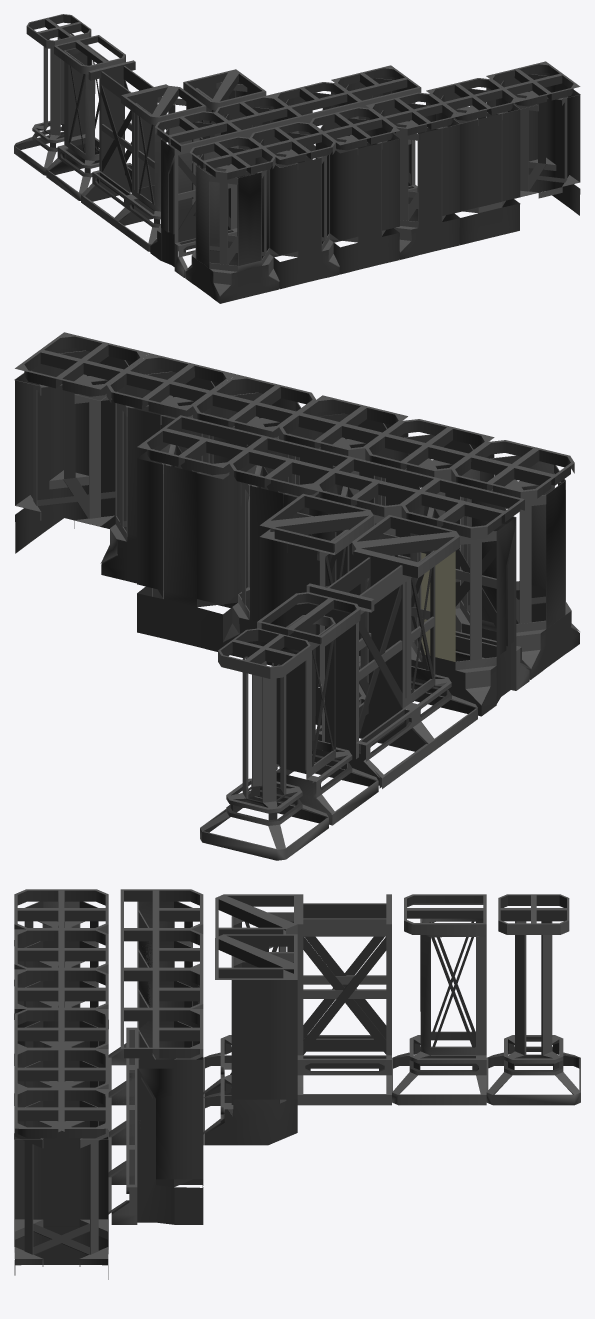
File: girders.fbx
The picture shows the model from 3 angles, top to bottom: view 1: azimuth 30°, elevation 25°; view 2: azimuth 150°, elevation 25°; view 3: azimuth 270°, elevation 25°; orthographic projection. The views are drawn at different scales.
Parts seen in each view (by area): view 1: Wall Girder X-1, Wall Girder X-3, Wall Girder X-5, Wall Girder X-2, Wall Girder X-4, Wall Girder X-6, Wall Girder T-1, Wall Girder C, Wall Girder L-1, Wall Girder I, Wall Girder O, Wall Girder T-4 (+3 smaller); view 2: Wall Girder T-4, Wall Girder X-6, Wall Girder T-1, Wall Girder I, Wall Girder X-1, Wall Girder O, Wall Girder C, Wall Girder X-5, Wall Girder L-2, Wall Girder L-1, Wall Girder T-3, Wall Girder X-2 (+3 smaller); view 3: Wall Girder X-6, Wall Girder T-4, Wall Girder L-2, Wall Girder I, Wall Girder C, Wall Girder O, Wall Girder T-1, Wall Girder L-1, Wall Girder T-2, Wall Girder T-3, Wall Girder X-3, Wall Girder X-2 (+3 smaller).
Part boxes in pixels (x1,y1,x2,y2): Wall Girder X-1: (185,136,279,303); Wall Girder X-3: (310,107,400,274); Wall Girder X-5: (426,78,520,245); Wall Girder X-2: (250,122,339,289); Wall Girder X-4: (366,92,459,259); Wall Girder X-6: (486,61,580,215); Wall Girder T-1: (150,111,240,278); Wall Girder C: (46,35,125,200); Wall Girder L-1: (115,85,206,251); Wall Girder I: (81,60,167,227); Wall Girder O: (14,14,91,175); Wall Girder T-4: (331,65,421,191); Wall Girder T-4: (137,415,266,651); Wall Girder X-6: (14,332,149,553); Wall Girder T-1: (401,478,531,716); Wall Girder I: (306,549,431,788); Wall Girder X-1: (451,440,579,679); Wall Girder O: (200,628,328,860); Wall Girder C: (250,592,378,825); Wall Girder X-5: (100,353,235,583); Wall Girder L-2: (259,493,373,725); Wall Girder L-1: (352,515,477,752); Wall Girder T-3: (223,436,352,658); Wall Girder X-2: (365,419,494,610); Wall Girder X-6: (14,1089,108,1279); Wall Girder T-4: (108,1009,203,1224); Wall Girder L-2: (203,934,297,1145); Wall Girder I: (297,894,391,1105); Wall Girder C: (392,894,486,1105); Wall Girder O: (486,894,580,1105); Wall Girder T-1: (108,889,203,1105); Wall Girder L-1: (203,894,297,1097); Wall Girder T-2: (108,929,203,1145); Wall Girder T-3: (108,969,203,1184); Wall Girder X-3: (14,969,108,1047); Wall Girder X-2: (14,929,108,987).
Bounding box in the file's own units: 6 × 2.06 × 6.
